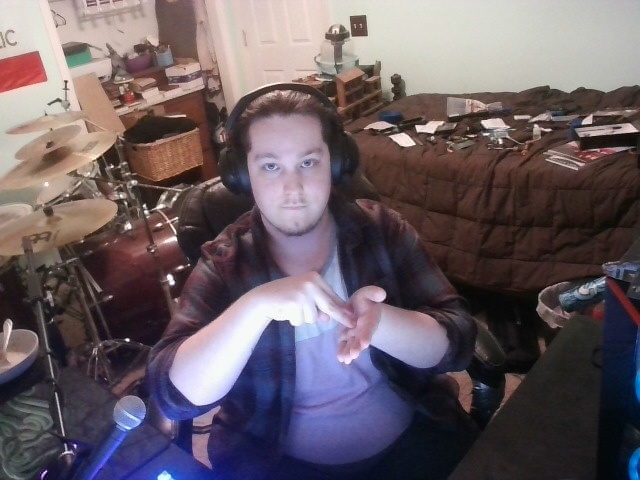fork: (248, 261, 393, 377)
